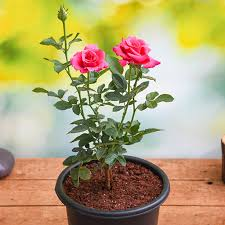lale: (110, 31, 157, 108), (64, 38, 110, 106)
